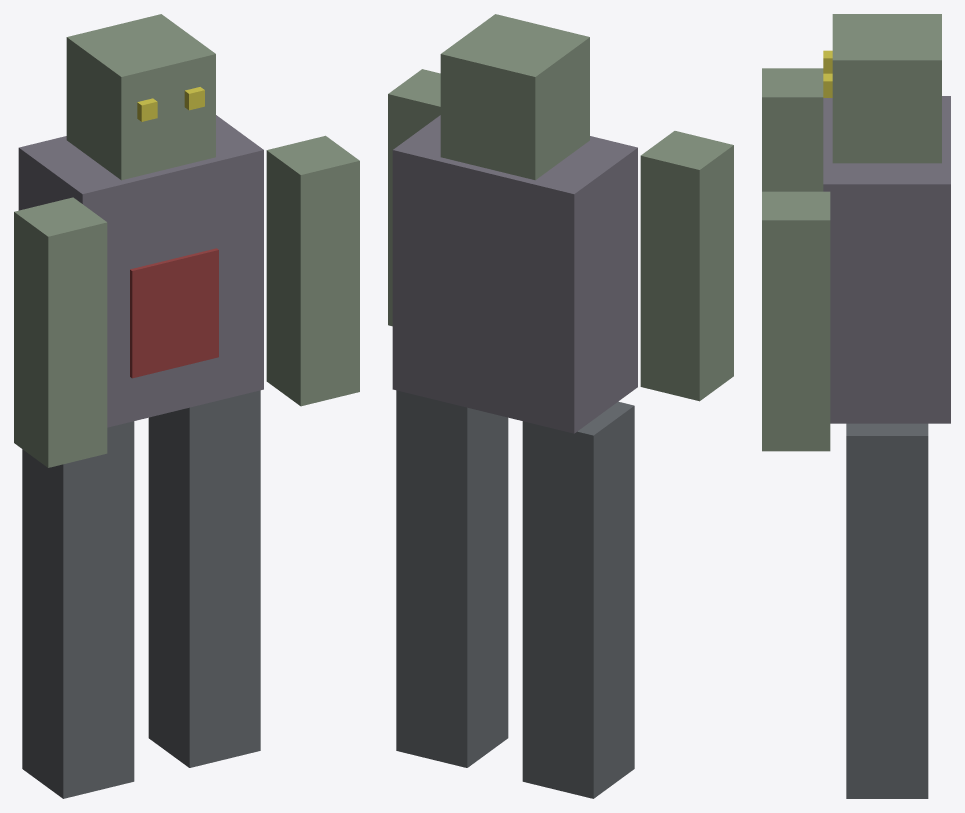
File: zombie_walker.glb
The picture shows the model from 3 angles, left to right: view 1: azimuth 30°, elevation 25°; view 2: azimuth 150°, elevation 25°; view 3: azimuth 270°, elevation 25°; orthographic projection.
Parts seen in each view (by area): view 1: zombie_walker; view 2: zombie_walker; view 3: zombie_walker.
Part boxes in pixels (left/top/right/bottom): zombie_walker: left=14, top=14, right=359, bottom=798; zombie_walker: left=388, top=14, right=733, bottom=798; zombie_walker: left=762, top=14, right=950, bottom=798.
Size of the model in its own units: 0.79 by 1.73 by 0.415.
